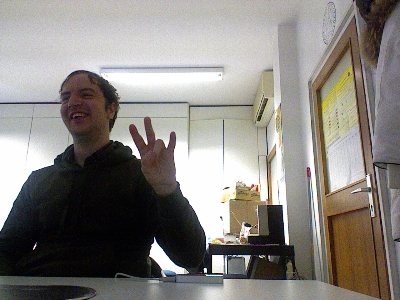观音: (126, 114, 177, 188)
